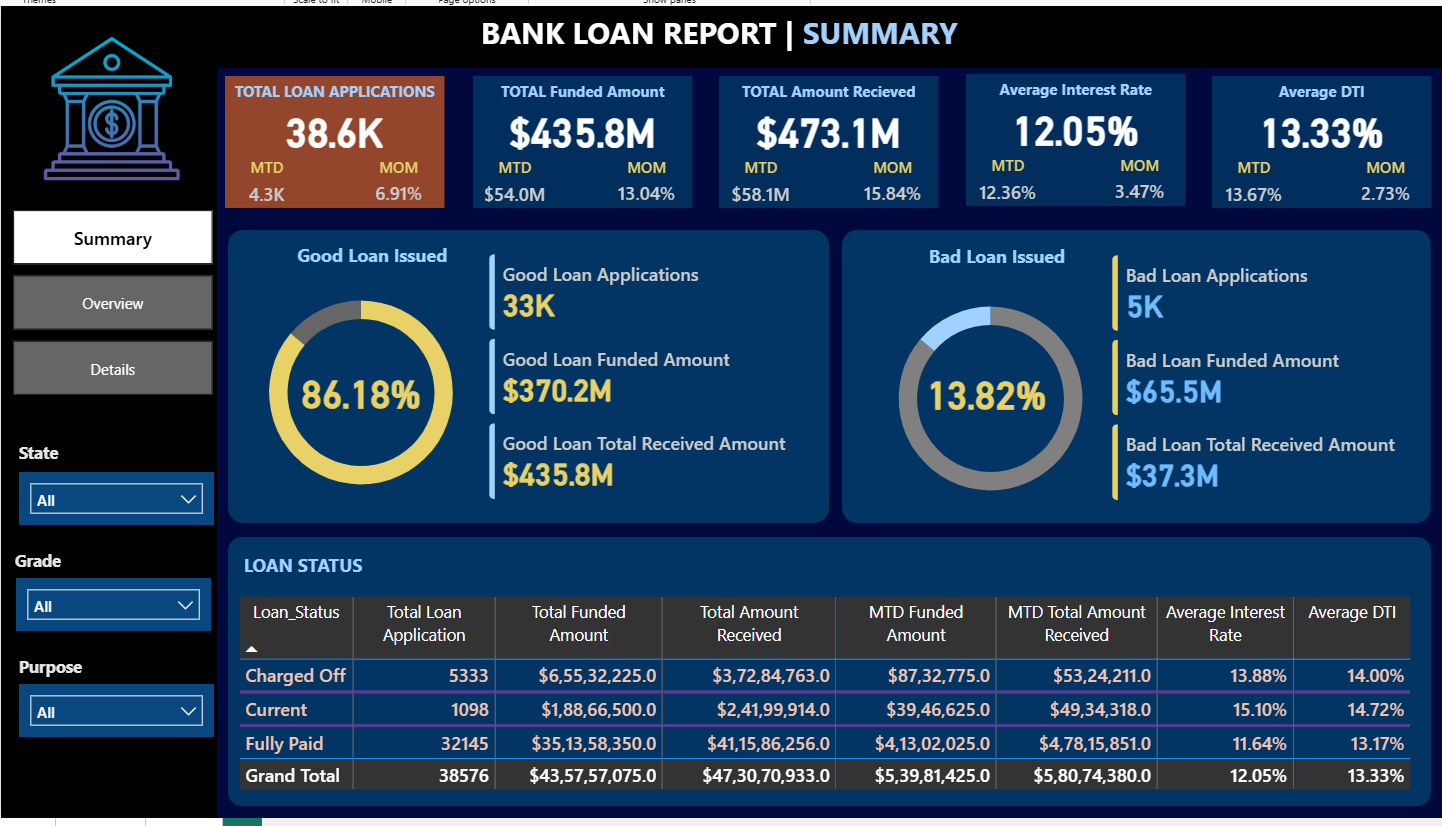

Layout of this report page (visuals, bound fields, positions):
{"tool":"powerbi","page":{"name":"Summary","canvas":[1280,720],"ordinal":0},"visuals":[{"type":"shape","box":[0,0,1280,55],"z":0},{"type":"shape","box":[201,198.4,532.9,259.8],"z":0,"group":"g6"},{"type":"shape","box":[745.4,198.4,522.3,259.8],"z":0,"group":"g7"},{"type":"shape","box":[201.3,470.8,1066.7,238.5],"z":0,"group":"g8"},{"type":"shape","box":[0,55.2,191.7,664.6],"z":1000},{"type":"textbox","box":[420.2,0,438.7,55.4],"z":2000},{"type":"shape","box":[855.2,60.3,194.6,117.1],"z":3000,"group":"g4"},{"type":"group","id":"g1","title":"Group 1","box":[198.6,62.1,195.1,117],"z":3000},{"type":"shape","box":[198.6,62.1,194.6,117.1],"z":3000,"group":"g1"},{"type":"shape","box":[418.1,62.1,194.6,117.1],"z":3000,"group":"g2"},{"type":"shape","box":[636.7,62.1,194.6,117.1],"z":3000,"group":"g3"},{"type":"shape","box":[1073.8,62.1,194.6,117.1],"z":3000,"group":"g5"},{"type":"group","id":"g2","title":"Group 1","box":[418.1,62.1,194.2,117],"z":4000},{"type":"cardVisual","fields":{"Data":["tbl_bank_loan.Average Interest Rate"]},"box":[855.2,75.1,194.6,69.2],"z":4000,"group":"g4"},{"type":"cardVisual","fields":{"Data":["tbl_bank_loan.Total Loan Application"]},"box":[198.6,76.9,194.6,69.2],"z":4000,"group":"g1"},{"type":"cardVisual","fields":{"Data":["tbl_bank_loan.Total Funded Amount"]},"box":[418.1,76.9,194.6,69.2],"z":4000,"group":"g2"},{"type":"cardVisual","fields":{"Data":["tbl_bank_loan.Total Amount Received"]},"box":[636.7,76.9,194.6,69.2],"z":4000,"group":"g3"},{"type":"cardVisual","fields":{"Data":["tbl_bank_loan.Average DTI"]},"box":[1073.8,76.9,194.6,69.2],"z":4000,"group":"g5"},{"type":"textbox","box":[855.2,60.3,194.6,30.4],"z":5000,"group":"g4"},{"type":"textbox","box":[198.6,62.1,194.6,30.4],"z":5000,"group":"g1"},{"type":"textbox","box":[418.1,62.1,194.6,30.4],"z":5000,"group":"g2"},{"type":"group","id":"g3","title":"Group 1","box":[636.7,62.1,194.2,117],"z":5000},{"type":"textbox","box":[636.7,62.1,194.6,30.4],"z":5000,"group":"g3"},{"type":"textbox","box":[1073.8,62.1,194.6,30.4],"z":5000,"group":"g5"},{"type":"group","id":"g4","title":"Group 1","box":[855.2,60.3,194.2,117],"z":6000},{"type":"cardVisual","title":"MTD ","fields":{"Data":["tbl_bank_loan.MTD Average Interest Rate"]},"box":[855.2,132.2,74.7,45.2],"z":6000,"group":"g4"},{"type":"cardVisual","title":"MTD ","fields":{"Data":["tbl_bank_loan.MTD Loan Applications"]},"box":[198.6,134,74.7,45.2],"z":6000,"group":"g1"},{"type":"cardVisual","title":"MTD ","fields":{"Data":["tbl_bank_loan.MTD Total Funded Amount"]},"box":[418.1,134,74.7,45.2],"z":6000,"group":"g2"},{"type":"cardVisual","title":"MTD ","fields":{"Data":["tbl_bank_loan.MTD Amount Received"]},"box":[636.7,134,74.7,45.2],"z":6000,"group":"g3"},{"type":"cardVisual","title":"MTD ","fields":{"Data":["tbl_bank_loan.MTD Average DTI"]},"box":[1073.8,134,74.7,45.2],"z":6000,"group":"g5"},{"type":"textbox","box":[229,204.6,199,31],"z":6000,"group":"g6"},{"type":"textbox","box":[785.4,205.5,195.1,31],"z":6000,"group":"g7"},{"type":"textbox","box":[10.5,380,52,31],"z":6000,"group":"g9"},{"type":"group","id":"g5","title":"Group 1","box":[1073.8,62.1,194.2,117],"z":7000},{"type":"cardVisual","title":"MOM","fields":{"Data":["tbl_bank_loan.MOM Average Interest Rate"]},"box":[968.6,132.2,81.2,43.3],"z":7000,"group":"g4"},{"type":"cardVisual","title":"MOM","fields":{"Data":["tbl_bank_loan.MOM Total Loan Application"]},"box":[312,134,81.2,43.3],"z":7000,"group":"g1"},{"type":"cardVisual","title":"MOM","fields":{"Data":["tbl_bank_loan.MOM Funded Amount"]},"box":[531.5,134,81.2,43.3],"z":7000,"group":"g2"},{"type":"cardVisual","title":"MOM","fields":{"Data":["tbl_bank_loan.MOM Amount Received"]},"box":[750.1,134,81.2,43.3],"z":7000,"group":"g3"},{"type":"cardVisual","title":"MOM","fields":{"Data":["tbl_bank_loan.MOM Average DTI"]},"box":[1187.2,134,81.2,43.3],"z":7000,"group":"g5"},{"type":"textbox","box":[210.2,479.7,198.6,31],"z":7000,"group":"g8"},{"type":"group","id":"g6","title":"Group 2","box":[201,198.4,532.9,259.8],"z":8000},{"type":"cardVisual","fields":{"Data":["tbl_bank_loan.Good Loan Percentage"]},"box":[232.7,308.4,172.8,69.2],"z":8000,"group":"g6"},{"type":"cardVisual","fields":{"Data":["tbl_bank_loan.Bad Loan Percentage"]},"box":[789,309.3,169.4,69.2],"z":8000,"group":"g7"},{"type":"group","id":"g7","title":"Group 2","box":[745.4,198.4,534.7,259.8],"z":9000},{"type":"group","id":"g8","title":"Group 3","box":[201.3,470.8,1066.7,238.5],"z":10000},{"type":"donutChart","fields":{"Category":["tbl_bank_loan.Good v Bad Loan"],"Y":["tbl_bank_loan.Total Loan Application"]},"box":[210,235.6,218,213.7],"z":11000,"group":"g6"},{"type":"donutChart","fields":{"Category":["tbl_bank_loan.Good v Bad Loan"],"Y":["tbl_bank_loan.Total Loan Application"]},"box":[770.7,241.3,213.7,213.7],"z":11000,"group":"g7"},{"type":"group","id":"g9","title":"Group 4","box":[10.5,380,178,80],"z":11000},{"type":"slicer","fields":{"Values":["tbl_bank_loan.grade"]},"box":[13,507,173,47],"z":11000,"group":"g10"},{"type":"slicer","fields":{"Values":["tbl_bank_loan.address_state"]},"box":[15.5,413,173,47],"z":12000,"group":"g9"},{"type":"group","id":"g10","title":"Group 5","box":[7,476,179,78],"z":12000},{"type":"textbox","box":[7,476,52,31],"z":12000,"group":"g10"},{"type":"tableEx","fields":{"Values":["tbl_bank_loan.loan_status","tbl_bank_loan.Total Loan Application","tbl_bank_loan.Total Funded Amount","tbl_bank_loan.Total Amount Received","tbl_bank_loan.MTD Total Funded Amount","tbl_bank_loan.MTD Amount Received","tbl_bank_loan.Average Interest Rate","tbl_bank_loan.Average DTI"]},"box":[205.7,518.7,1057.8,183.5],"z":12000,"group":"g8"},{"type":"cardVisual","fields":{"Data":["tbl_bank_loan.Good Loan Applications","tbl_bank_loan.Good Loan Funded Amount","tbl_bank_loan.Good Loan Total Received Amount"]},"box":[415.4,202.8,318.5,251.8],"z":13000,"group":"g6"},{"type":"cardVisual","fields":{"Data":["tbl_bank_loan.Bad Loan Applications","tbl_bank_loan.Bad Loan Funded Amount","tbl_bank_loan.Bad Loan Total Received Amount"]},"box":[968.1,203.8,312.1,251.8],"z":13000,"group":"g7"},{"type":"group","id":"g11","title":"Group 6","box":[11,570,178,78],"z":13000},{"type":"slicer","fields":{"Values":["tbl_bank_loan.purpose"]},"box":[16,601,173,47],"z":13000,"group":"g11"},{"type":"image","box":[9.4,27.1,177.1,127.1],"z":14000},{"type":"textbox","box":[11,570,87,31],"z":14000,"group":"g11"},{"type":"pageNavigator","box":[10.4,181.2,177.1,166.7],"z":15000}]}

Visuals, with their boxes on the page's 1280x720 design canvas (x1, y1, x2, y2). These are canvas units, not pixel positions in the 1442x826 screenshot, which may show the page scaled, cropped or inside an application window:
shape: {"x1": 0, "y1": 0, "x2": 1280, "y2": 55}
shape: {"x1": 201, "y1": 198, "x2": 734, "y2": 458}
shape: {"x1": 745, "y1": 198, "x2": 1268, "y2": 458}
shape: {"x1": 201, "y1": 471, "x2": 1268, "y2": 709}
shape: {"x1": 0, "y1": 55, "x2": 192, "y2": 720}
textbox: {"x1": 420, "y1": 0, "x2": 859, "y2": 55}
shape: {"x1": 855, "y1": 60, "x2": 1050, "y2": 177}
"Group 1" group: {"x1": 199, "y1": 62, "x2": 394, "y2": 179}
shape: {"x1": 199, "y1": 62, "x2": 393, "y2": 179}
shape: {"x1": 418, "y1": 62, "x2": 613, "y2": 179}
shape: {"x1": 637, "y1": 62, "x2": 831, "y2": 179}
shape: {"x1": 1074, "y1": 62, "x2": 1268, "y2": 179}
"Group 1" group: {"x1": 418, "y1": 62, "x2": 612, "y2": 179}
cardVisual - tbl_bank_loan.Average Interest Rate: {"x1": 855, "y1": 75, "x2": 1050, "y2": 144}
cardVisual - tbl_bank_loan.Total Loan Application: {"x1": 199, "y1": 77, "x2": 393, "y2": 146}
cardVisual - tbl_bank_loan.Total Funded Amount: {"x1": 418, "y1": 77, "x2": 613, "y2": 146}
cardVisual - tbl_bank_loan.Total Amount Received: {"x1": 637, "y1": 77, "x2": 831, "y2": 146}
cardVisual - tbl_bank_loan.Average DTI: {"x1": 1074, "y1": 77, "x2": 1268, "y2": 146}
textbox: {"x1": 855, "y1": 60, "x2": 1050, "y2": 91}
textbox: {"x1": 199, "y1": 62, "x2": 393, "y2": 92}
textbox: {"x1": 418, "y1": 62, "x2": 613, "y2": 92}
"Group 1" group: {"x1": 637, "y1": 62, "x2": 831, "y2": 179}
textbox: {"x1": 637, "y1": 62, "x2": 831, "y2": 92}
textbox: {"x1": 1074, "y1": 62, "x2": 1268, "y2": 92}
"Group 1" group: {"x1": 855, "y1": 60, "x2": 1049, "y2": 177}
"MTD " cardVisual: {"x1": 855, "y1": 132, "x2": 930, "y2": 177}
"MTD " cardVisual: {"x1": 199, "y1": 134, "x2": 273, "y2": 179}
"MTD " cardVisual: {"x1": 418, "y1": 134, "x2": 493, "y2": 179}
"MTD " cardVisual: {"x1": 637, "y1": 134, "x2": 711, "y2": 179}
"MTD " cardVisual: {"x1": 1074, "y1": 134, "x2": 1148, "y2": 179}
textbox: {"x1": 229, "y1": 205, "x2": 428, "y2": 236}
textbox: {"x1": 785, "y1": 206, "x2": 980, "y2": 236}
textbox: {"x1": 10, "y1": 380, "x2": 62, "y2": 411}
"Group 1" group: {"x1": 1074, "y1": 62, "x2": 1268, "y2": 179}
"MOM" cardVisual: {"x1": 969, "y1": 132, "x2": 1050, "y2": 176}
"MOM" cardVisual: {"x1": 312, "y1": 134, "x2": 393, "y2": 177}
"MOM" cardVisual: {"x1": 532, "y1": 134, "x2": 613, "y2": 177}
"MOM" cardVisual: {"x1": 750, "y1": 134, "x2": 831, "y2": 177}
"MOM" cardVisual: {"x1": 1187, "y1": 134, "x2": 1268, "y2": 177}
textbox: {"x1": 210, "y1": 480, "x2": 409, "y2": 511}
"Group 2" group: {"x1": 201, "y1": 198, "x2": 734, "y2": 458}
cardVisual - tbl_bank_loan.Good Loan Percentage: {"x1": 233, "y1": 308, "x2": 406, "y2": 378}
cardVisual - tbl_bank_loan.Bad Loan Percentage: {"x1": 789, "y1": 309, "x2": 958, "y2": 378}
"Group 2" group: {"x1": 745, "y1": 198, "x2": 1280, "y2": 458}
"Group 3" group: {"x1": 201, "y1": 471, "x2": 1268, "y2": 709}
donutChart - tbl_bank_loan.Good v Bad Loan x tbl_bank_loan.Total Loan Application: {"x1": 210, "y1": 236, "x2": 428, "y2": 449}
donutChart - tbl_bank_loan.Good v Bad Loan x tbl_bank_loan.Total Loan Application: {"x1": 771, "y1": 241, "x2": 984, "y2": 455}
"Group 4" group: {"x1": 10, "y1": 380, "x2": 188, "y2": 460}
slicer - tbl_bank_loan.grade: {"x1": 13, "y1": 507, "x2": 186, "y2": 554}
slicer - tbl_bank_loan.address_state: {"x1": 16, "y1": 413, "x2": 188, "y2": 460}
"Group 5" group: {"x1": 7, "y1": 476, "x2": 186, "y2": 554}
textbox: {"x1": 7, "y1": 476, "x2": 59, "y2": 507}
tableEx - tbl_bank_loan.loan_status x tbl_bank_loan.Total Loan Application: {"x1": 206, "y1": 519, "x2": 1264, "y2": 702}
cardVisual - tbl_bank_loan.Good Loan Applications x tbl_bank_loan.Good Loan Funded Amount: {"x1": 415, "y1": 203, "x2": 734, "y2": 455}
cardVisual - tbl_bank_loan.Bad Loan Applications x tbl_bank_loan.Bad Loan Funded Amount: {"x1": 968, "y1": 204, "x2": 1280, "y2": 456}
"Group 6" group: {"x1": 11, "y1": 570, "x2": 189, "y2": 648}
slicer - tbl_bank_loan.purpose: {"x1": 16, "y1": 601, "x2": 189, "y2": 648}
image: {"x1": 9, "y1": 27, "x2": 186, "y2": 154}
textbox: {"x1": 11, "y1": 570, "x2": 98, "y2": 601}
pageNavigator: {"x1": 10, "y1": 181, "x2": 188, "y2": 348}
